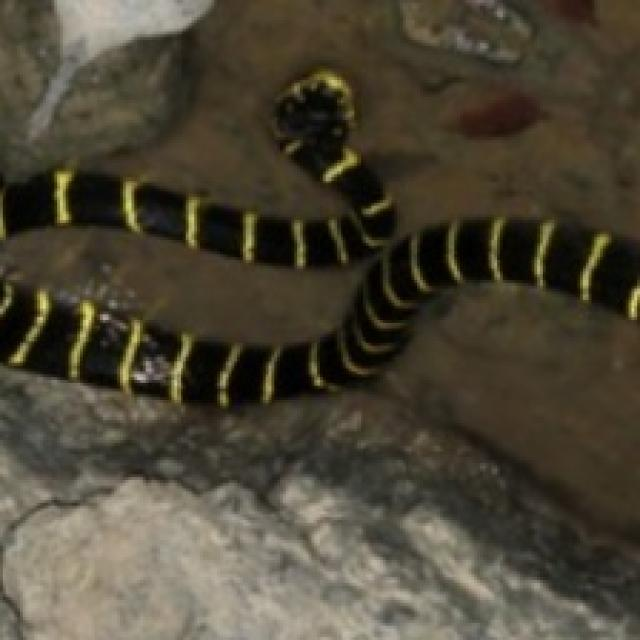mangrove cat snake: (0, 69, 637, 403)
